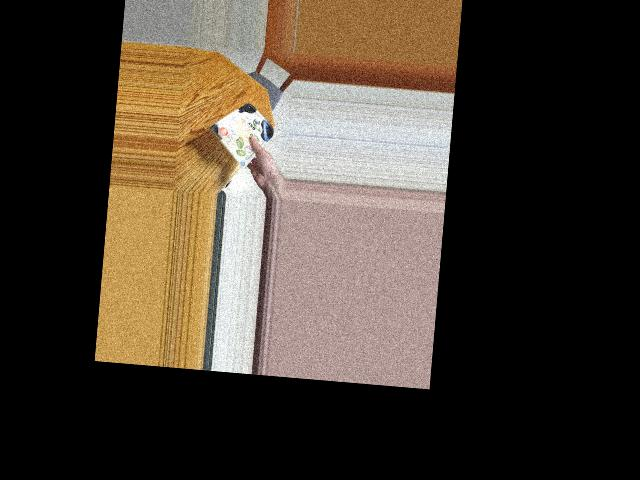cheese: (216, 106, 275, 158)
